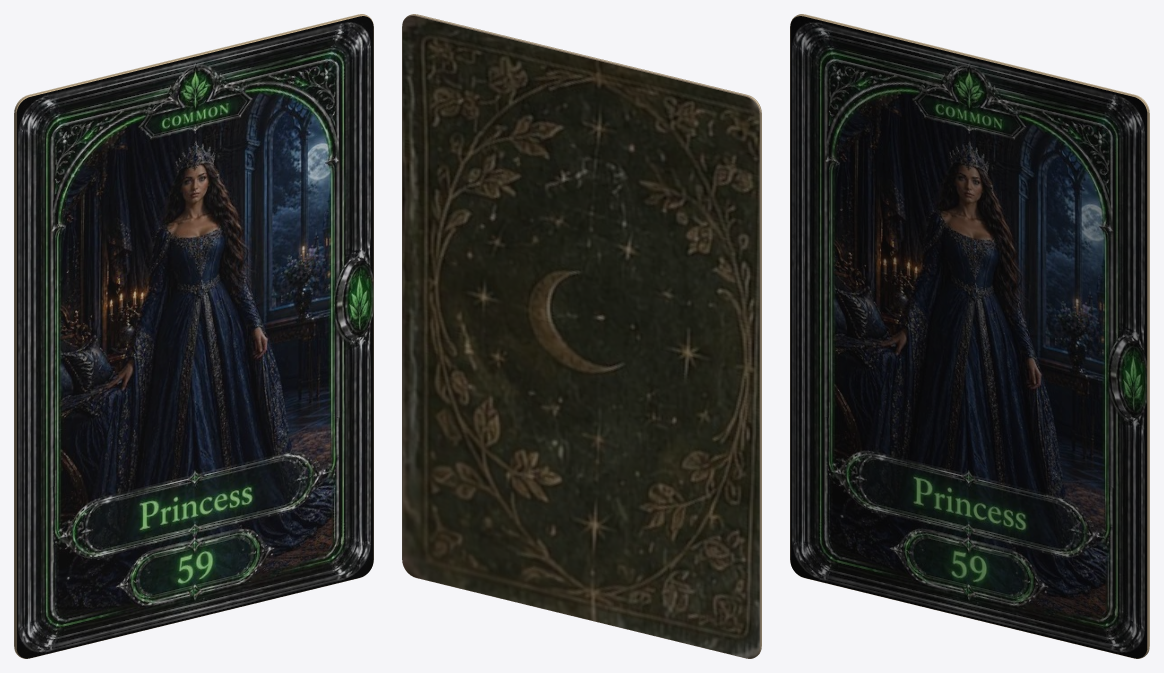
Rendered from measured-card.glb.
3 renders of one model, left to right at view 1: azimuth 30°, elevation 25°; view 2: azimuth 150°, elevation 25°; view 3: azimuth 330°, elevation 25°, orthographic.
Visible parts, largest first — view 1: Physical card; view 2: Physical card; view 3: Physical card.
Part boxes in pixels (box(x1,y1,x2,y2)): Physical card: box(14, 14, 373, 658); Physical card: box(402, 14, 761, 658); Physical card: box(790, 14, 1149, 658).
Bounding box in the file's own units: 0.063 × 0.0945 × 0.00063.
6 materials, 2 textured.
